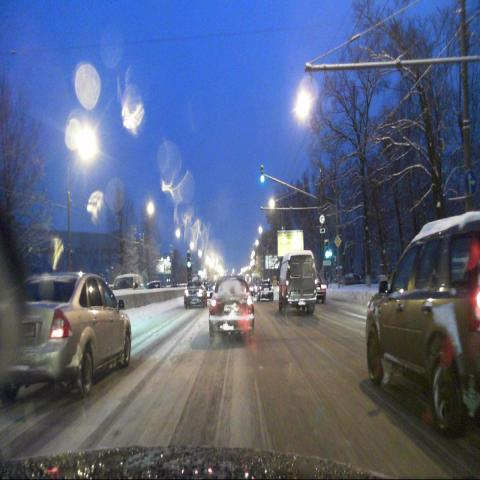2_1: (333, 234, 342, 249)
3_18: (318, 212, 326, 224)
4_1_4: (463, 169, 478, 195)
